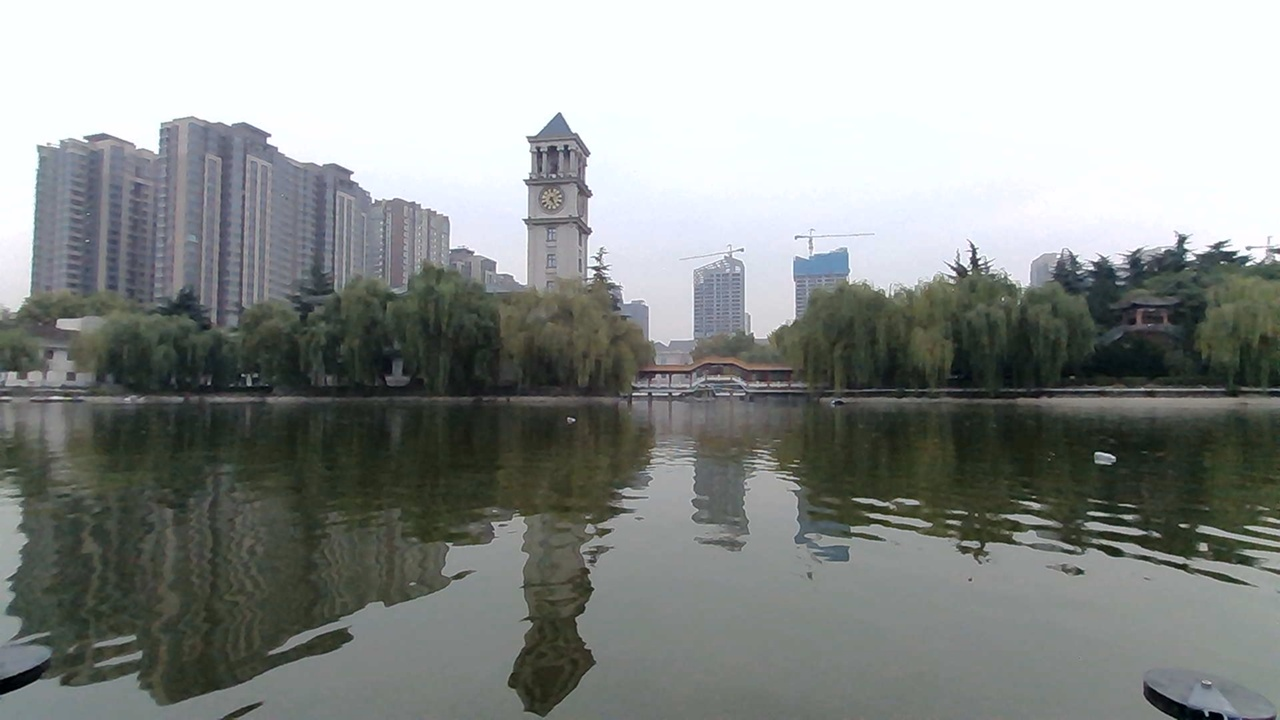bottle: (1092, 445, 1124, 466)
